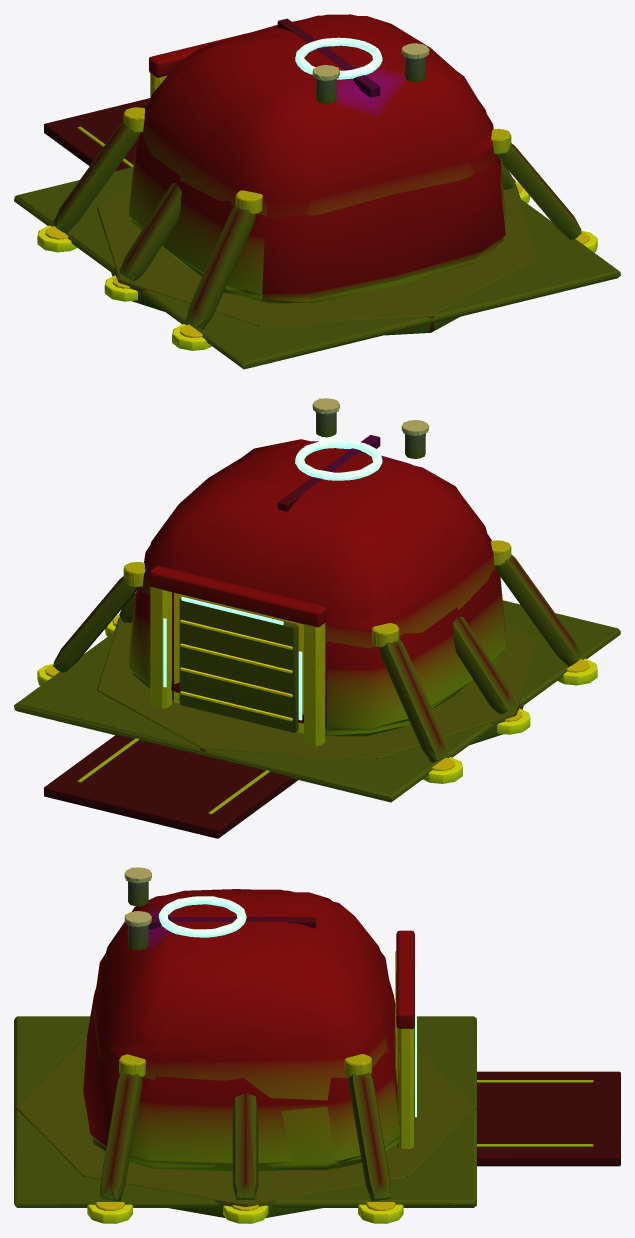
Rendered from ArachnidHexapodFactory_LODs.fbx.
3 views of the same model, one above another, from view 1: azimuth 30°, elevation 25°; view 2: azimuth 150°, elevation 25°; view 3: azimuth 270°, elevation 25° (orthographic).
Visible parts, largest first — view 1: LOD0_ArachnidHexapodFactory_Batch_PrimaryArmor, LOD0_ArachnidHexapodFactory_Batch_Gunmetal, LOD1_ArachnidHexapodFactory_Batch_PrimaryArmor, LOD2_ArachnidHexapodFactory_Batch_PrimaryArmor, LOD1_ArachnidHexapodFactory_Batch_Gunmetal, LOD0_ArachnidHexapodFactory_Batch_LightArmor, LOD2_ArachnidHexapodFactory_Batch_Gunmetal, LOD0_ArachnidHexapodFactory_Batch_Tread, LOD0_ArachnidHexapodFactory_Batch_Emissive, LOD1_ArachnidHexapodFactory_Batch_Emissive, LOD0_ArachnidHexapodFactory_Batch_Warning, LOD2_ArachnidHexapodFactory_Batch_Emissive; view 2: LOD0_ArachnidHexapodFactory_Batch_Gunmetal, LOD0_ArachnidHexapodFactory_Batch_PrimaryArmor, LOD1_ArachnidHexapodFactory_Batch_PrimaryArmor, LOD1_ArachnidHexapodFactory_Batch_Gunmetal, LOD2_ArachnidHexapodFactory_Batch_PrimaryArmor, LOD0_ArachnidHexapodFactory_Batch_LightArmor, LOD0_ArachnidHexapodFactory_Batch_Tread, LOD1_ArachnidHexapodFactory_Batch_LightArmor, LOD0_ArachnidHexapodFactory_Batch_Emissive, LOD2_ArachnidHexapodFactory_Batch_Gunmetal, LOD1_ArachnidHexapodFactory_Batch_Emissive, LOD2_ArachnidHexapodFactory_Batch_Emissive (+2 smaller); view 3: LOD0_ArachnidHexapodFactory_Batch_Gunmetal, LOD0_ArachnidHexapodFactory_Batch_PrimaryArmor, LOD2_ArachnidHexapodFactory_Batch_PrimaryArmor, LOD1_ArachnidHexapodFactory_Batch_Gunmetal, LOD1_ArachnidHexapodFactory_Batch_PrimaryArmor, LOD0_ArachnidHexapodFactory_Batch_LightArmor, LOD0_ArachnidHexapodFactory_Batch_Tread, LOD2_ArachnidHexapodFactory_Batch_Gunmetal, LOD0_ArachnidHexapodFactory_Batch_Emissive, LOD1_ArachnidHexapodFactory_Batch_LightArmor, LOD1_ArachnidHexapodFactory_Batch_Emissive, LOD2_ArachnidHexapodFactory_Batch_Emissive (+2 smaller).
Boxes of the visible parts, x1,y1,x2,y2 form: LOD0_ArachnidHexapodFactory_Batch_PrimaryArmor: [129, 14, 505, 303]; LOD0_ArachnidHexapodFactory_Batch_Gunmetal: [14, 18, 620, 369]; LOD1_ArachnidHexapodFactory_Batch_PrimaryArmor: [129, 14, 505, 302]; LOD2_ArachnidHexapodFactory_Batch_PrimaryArmor: [131, 16, 503, 302]; LOD1_ArachnidHexapodFactory_Batch_Gunmetal: [14, 79, 620, 367]; LOD0_ArachnidHexapodFactory_Batch_LightArmor: [77, 43, 511, 213]; LOD2_ArachnidHexapodFactory_Batch_Gunmetal: [14, 57, 620, 368]; LOD0_ArachnidHexapodFactory_Batch_Tread: [37, 182, 597, 350]; LOD0_ArachnidHexapodFactory_Batch_Emissive: [295, 37, 382, 79]; LOD1_ArachnidHexapodFactory_Batch_Emissive: [295, 37, 382, 78]; LOD0_ArachnidHexapodFactory_Batch_Warning: [45, 183, 589, 337]; LOD2_ArachnidHexapodFactory_Batch_Emissive: [295, 38, 382, 79]; LOD0_ArachnidHexapodFactory_Batch_Gunmetal: [15, 412, 620, 838]; LOD0_ArachnidHexapodFactory_Batch_PrimaryArmor: [129, 441, 505, 736]; LOD1_ArachnidHexapodFactory_Batch_PrimaryArmor: [129, 441, 505, 735]; LOD1_ArachnidHexapodFactory_Batch_Gunmetal: [14, 434, 620, 838]; LOD2_ArachnidHexapodFactory_Batch_PrimaryArmor: [132, 439, 500, 735]; LOD0_ArachnidHexapodFactory_Batch_LightArmor: [77, 398, 511, 814]; LOD0_ArachnidHexapodFactory_Batch_Tread: [37, 592, 597, 783]; LOD1_ArachnidHexapodFactory_Batch_LightArmor: [124, 403, 510, 745]; LOD0_ArachnidHexapodFactory_Batch_Emissive: [163, 439, 382, 720]; LOD2_ArachnidHexapodFactory_Batch_Gunmetal: [14, 412, 620, 801]; LOD1_ArachnidHexapodFactory_Batch_Emissive: [295, 439, 381, 719]; LOD2_ArachnidHexapodFactory_Batch_Emissive: [295, 440, 382, 477]; LOD0_ArachnidHexapodFactory_Batch_Gunmetal: [14, 881, 620, 1217]; LOD0_ArachnidHexapodFactory_Batch_PrimaryArmor: [83, 889, 414, 1170]; LOD2_ArachnidHexapodFactory_Batch_PrimaryArmor: [92, 892, 413, 1170]; LOD1_ArachnidHexapodFactory_Batch_Gunmetal: [14, 881, 620, 1217]; LOD1_ArachnidHexapodFactory_Batch_PrimaryArmor: [84, 889, 413, 1170]; LOD0_ArachnidHexapodFactory_Batch_LightArmor: [119, 867, 593, 1148]; LOD0_ArachnidHexapodFactory_Batch_Tread: [87, 951, 403, 1223]; LOD2_ArachnidHexapodFactory_Batch_Gunmetal: [14, 883, 476, 1217]; LOD0_ArachnidHexapodFactory_Batch_Emissive: [158, 896, 417, 1117]; LOD1_ArachnidHexapodFactory_Batch_LightArmor: [119, 870, 413, 1148]; LOD1_ArachnidHexapodFactory_Batch_Emissive: [160, 896, 246, 937]; LOD2_ArachnidHexapodFactory_Batch_Emissive: [159, 896, 246, 937].
Bounding box in the file's own units: 884 × 462 × 1103.
